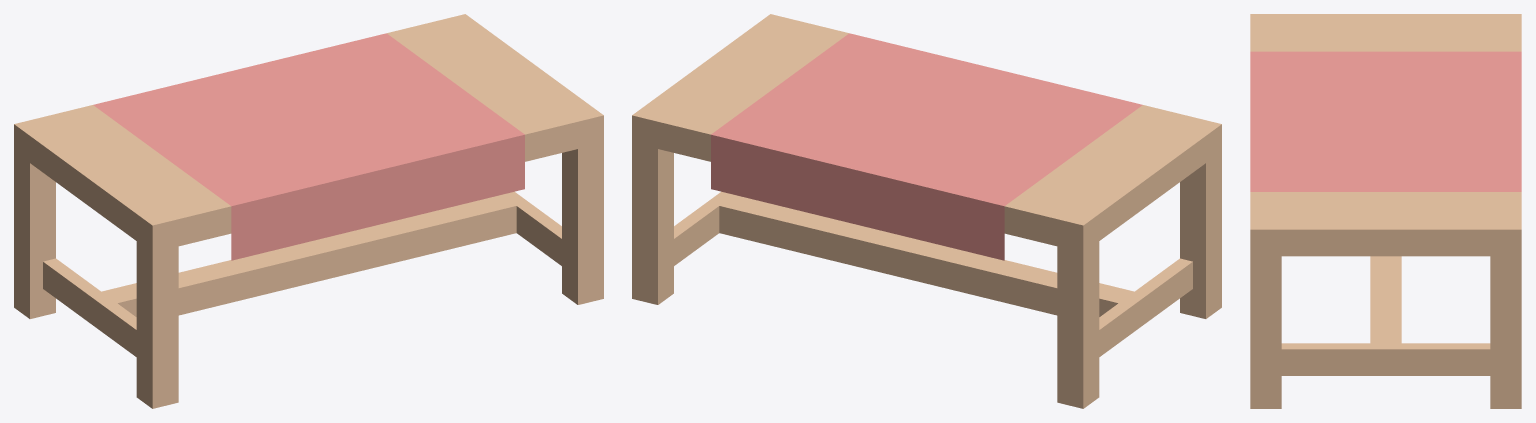
Rendered from tableCloth.glb.
The picture shows the model from 3 angles, left to right: view 1: azimuth 30°, elevation 25°; view 2: azimuth 150°, elevation 25°; view 3: azimuth 270°, elevation 25°; orthographic projection. The views are drawn at different scales.
Visible parts, largest first — view 1: tableCloth; view 2: tableCloth; view 3: tableCloth.
Part boxes in pixels (left/top/right/bottom): tableCloth: left=14, top=14, right=603, bottom=408; tableCloth: left=632, top=14, right=1221, bottom=408; tableCloth: left=1250, top=14, right=1521, bottom=408.
Size of the model in its own units: 0.8416 by 0.3268 by 0.4473.
